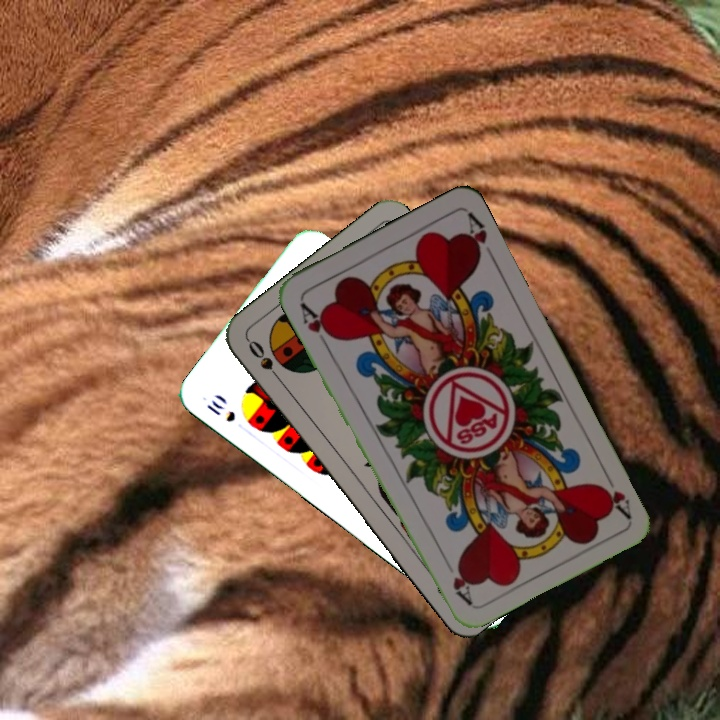HA: (594, 465, 634, 521), (296, 298, 337, 351)
S10: (202, 395, 238, 425)
SO: (244, 336, 286, 386)
